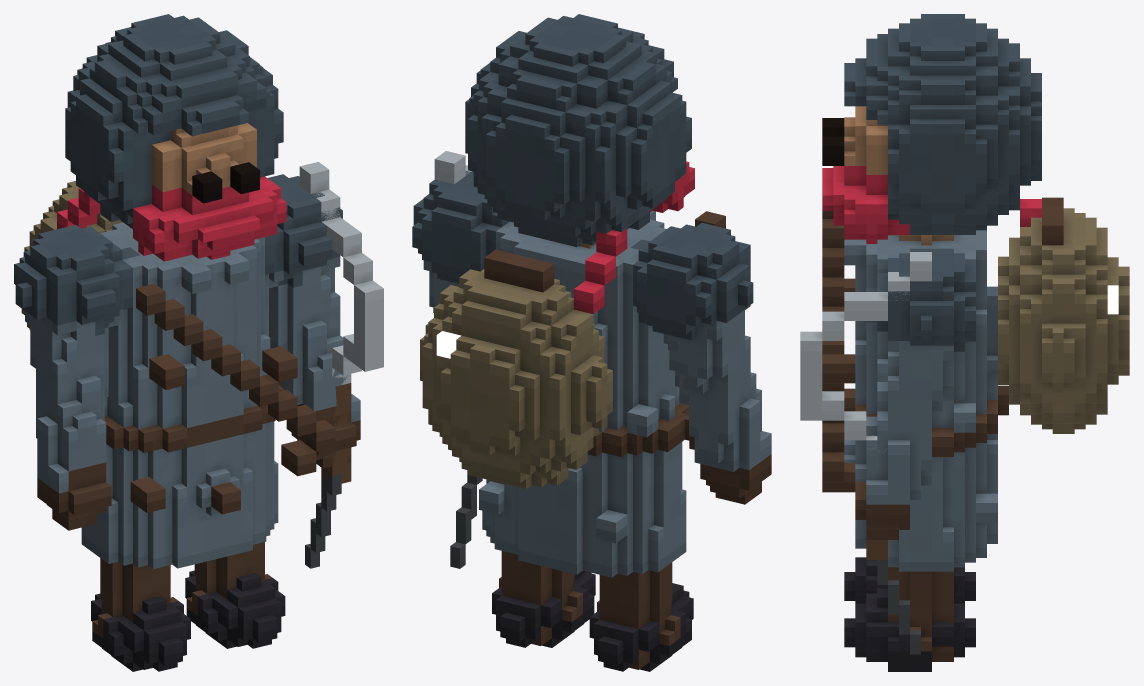
Rendered from u_lame__receleur.glb.
3 views of the same model, side by side, from view 1: azimuth 30°, elevation 25°; view 2: azimuth 150°, elevation 25°; view 3: azimuth 270°, elevation 25° (orthographic). The views are drawn at different scales.
Visible parts, largest first — view 1: lame_body, lame_weapon; view 2: lame_body, lame_weapon; view 3: lame_body, lame_weapon.
Part boxes in pixels (x1,y1,x2,y2): lame_body: (14,14,360,671); lame_weapon: (299,162,383,568); lame_body: (412,14,771,671); lame_weapon: (434,151,482,568); lame_body: (822,14,1129,671); lame_weapon: (800,252,931,654).
Bounding box in the file's own units: 0.85 × 1.52 × 0.75.
